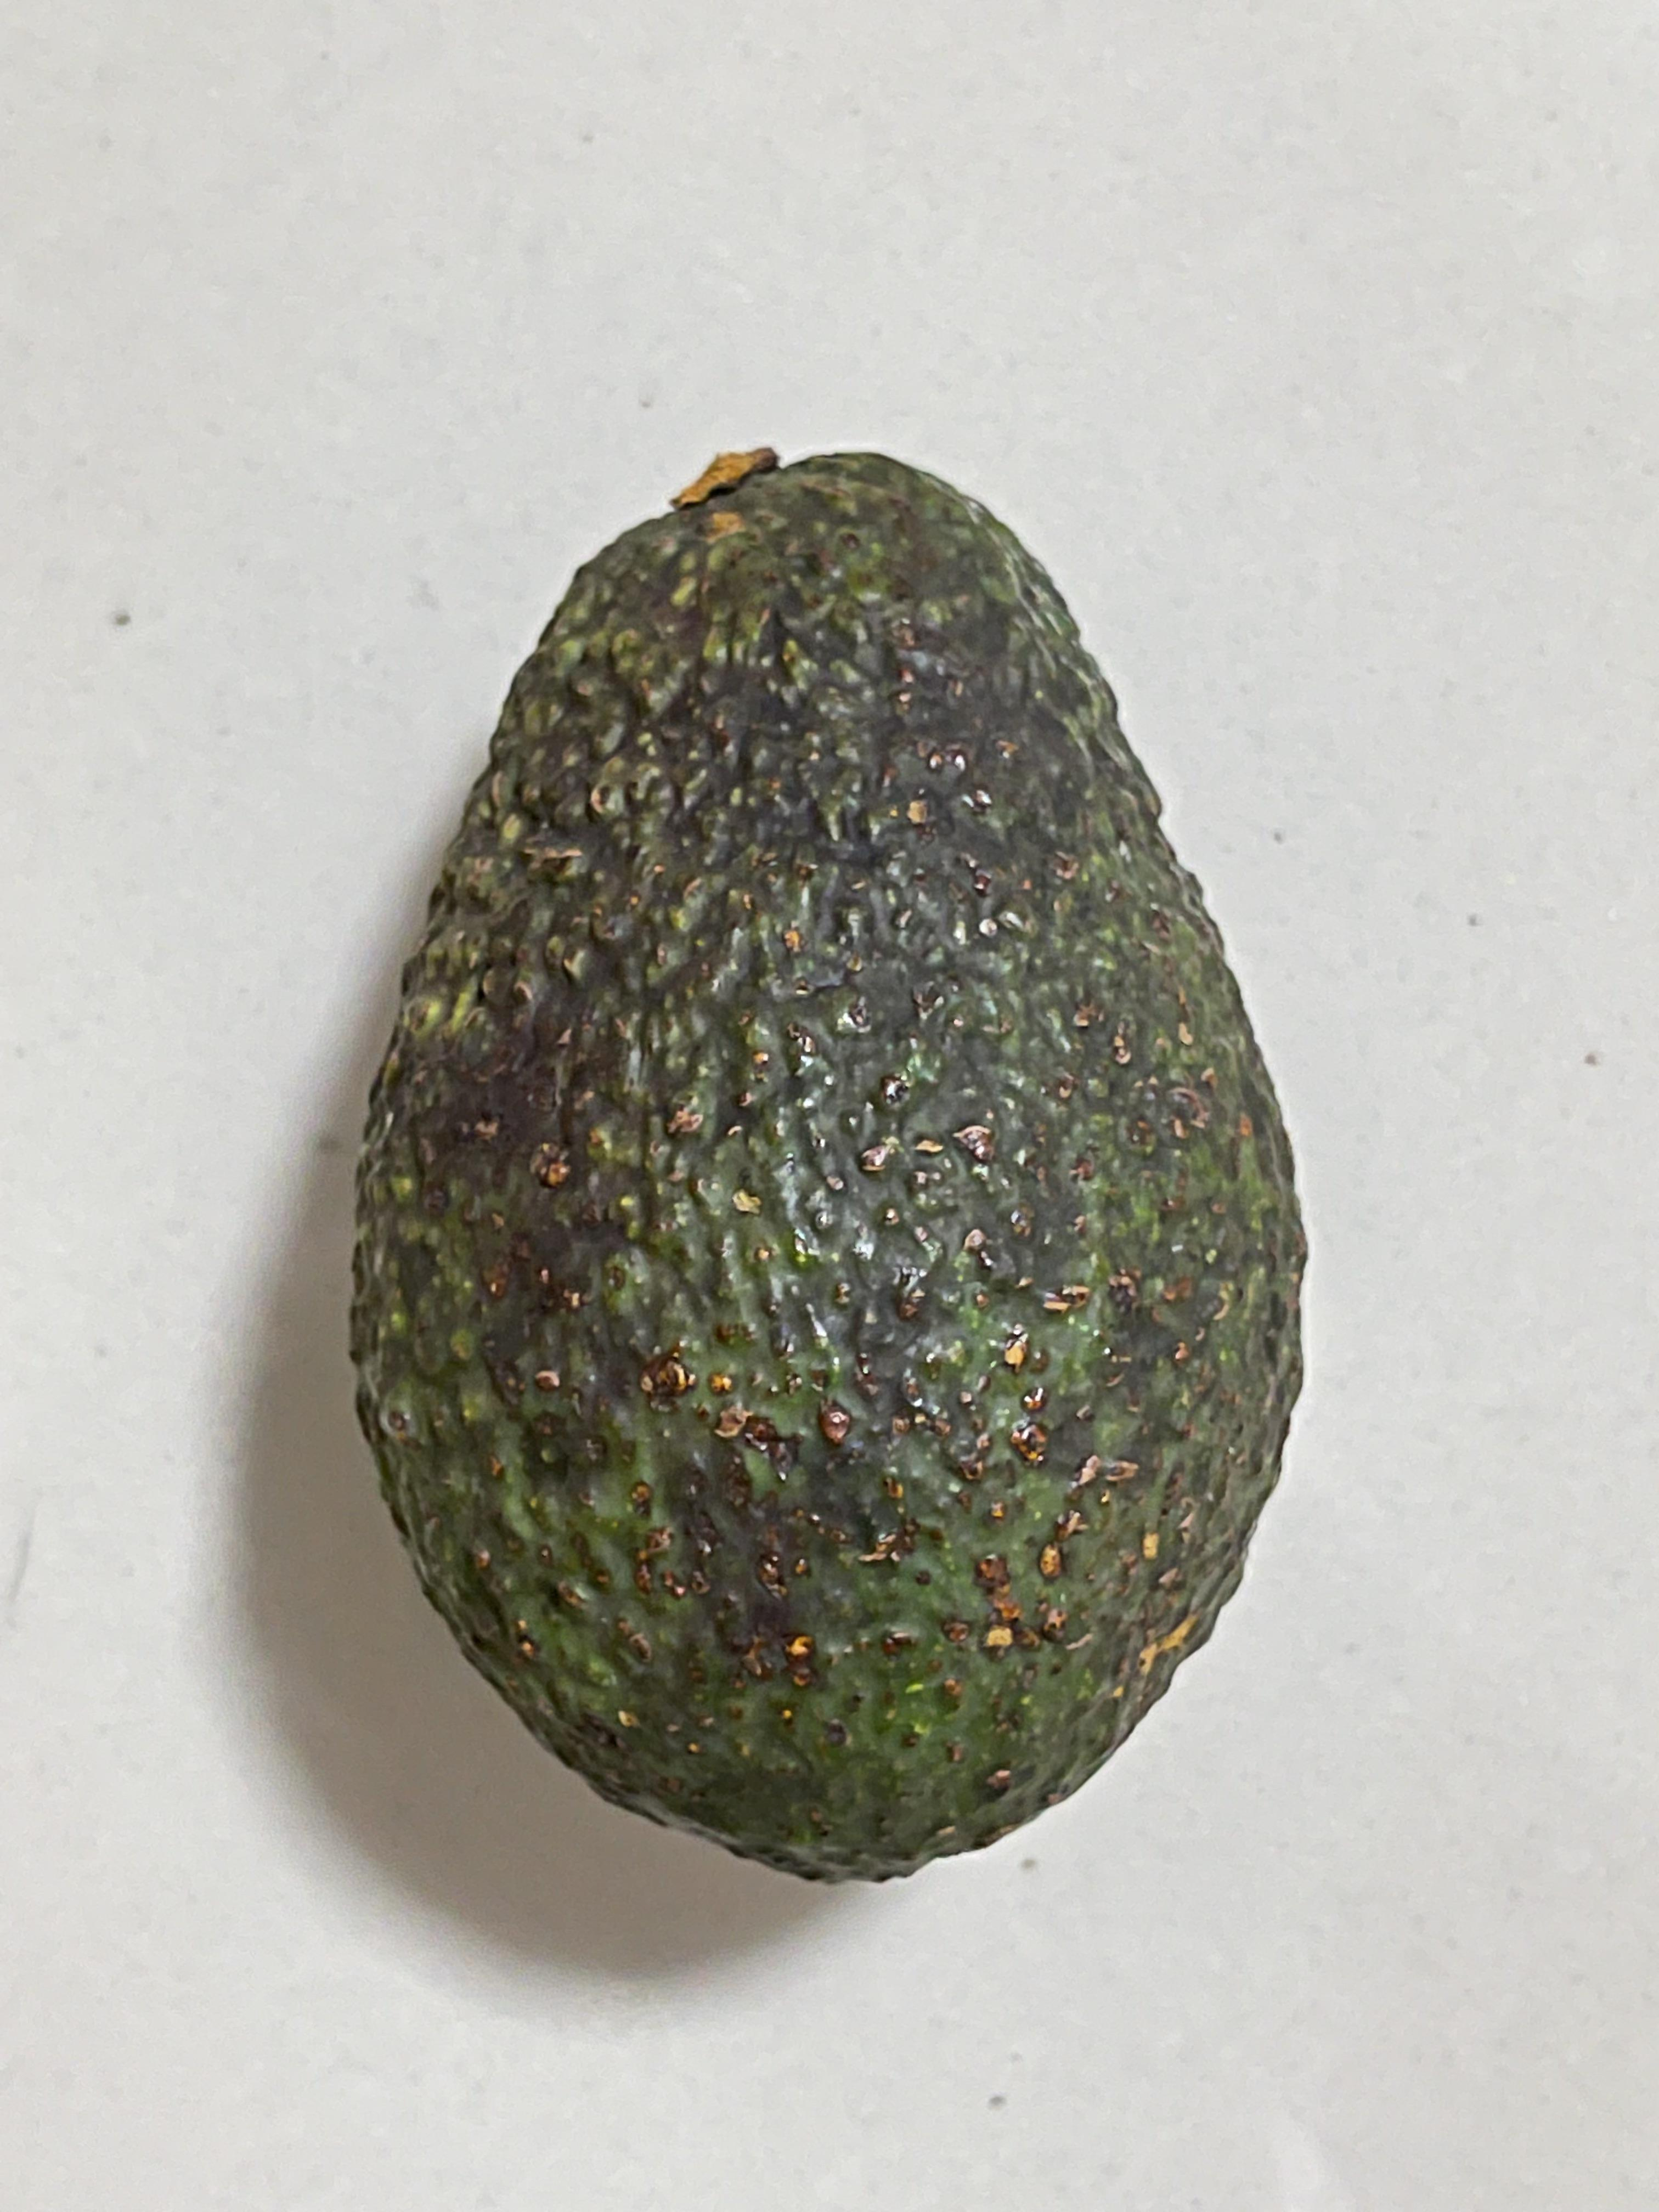Level1: (307, 383, 1361, 1912)
